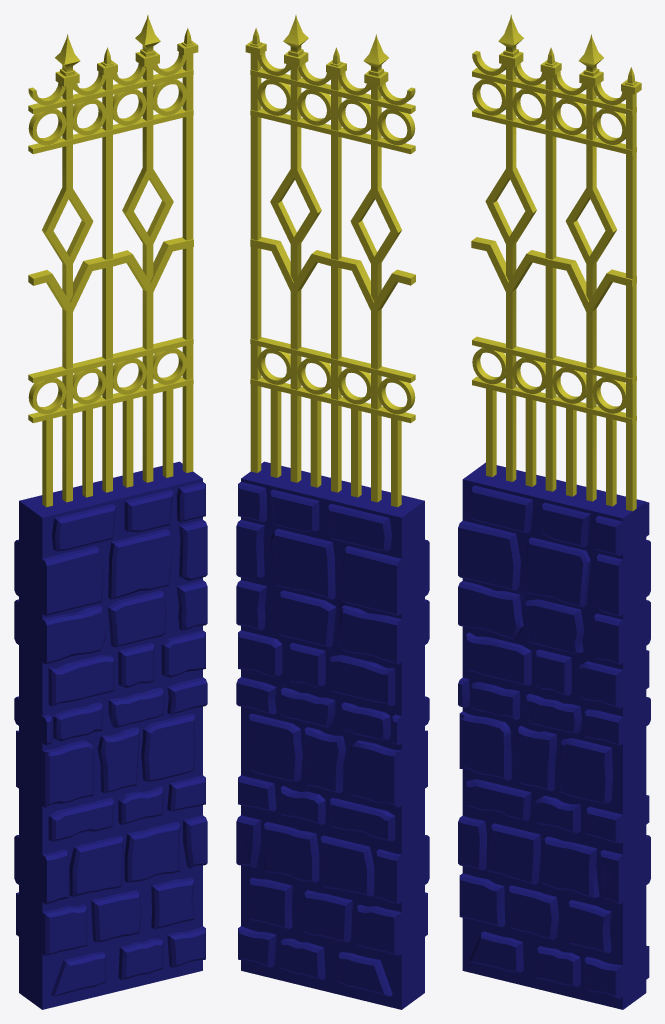
Rendered from SM_fence_ext.fbx.
3 views of the same model, side by side, from view 1: azimuth 30°, elevation 25°; view 2: azimuth 150°, elevation 25°; view 3: azimuth 330°, elevation 25° (orthographic).
Visible parts, largest first — view 1: Plane009, GRILLAGE; view 2: Plane009, GRILLAGE; view 3: Plane009, GRILLAGE.
Boxes of the visible parts, bbox=[...] form: Plane009: bbox=[14, 461, 207, 1009]; GRILLAGE: bbox=[28, 15, 198, 507]; Plane009: bbox=[236, 461, 429, 1009]; GRILLAGE: bbox=[245, 15, 415, 507]; Plane009: bbox=[458, 462, 650, 1009]; GRILLAGE: bbox=[471, 14, 641, 511].
Size of the model in its own units: 205 by 1141 by 71.6.
